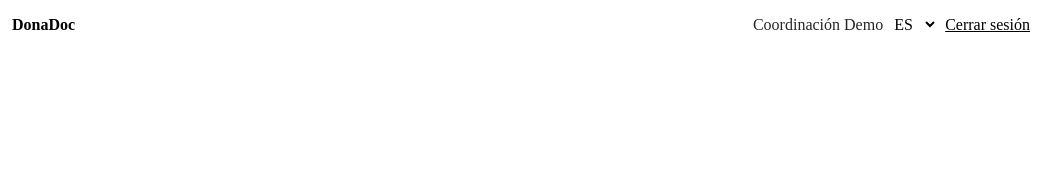
componentes compartidos › AppHeader muestra el usuario, cierra sesión y cambia de idioma
This screenshot has width=1048, height=172.
Expected: the text "Coordinación Demo" is shown, [753,16,883,34]
Click the button "Cerrar sesión" at coordinates (988, 24), box [939,14,1036,34]
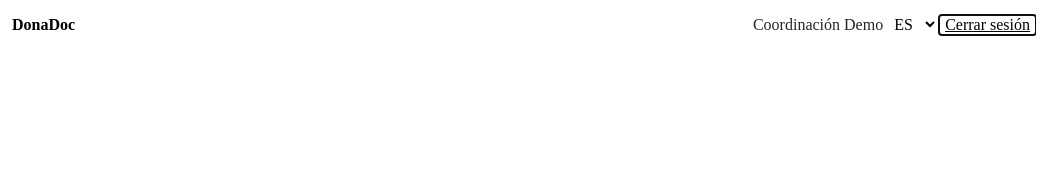
Select "EN" in the dropdown named "Idioma" at coordinates (911, 24), box [883,12,939,37]
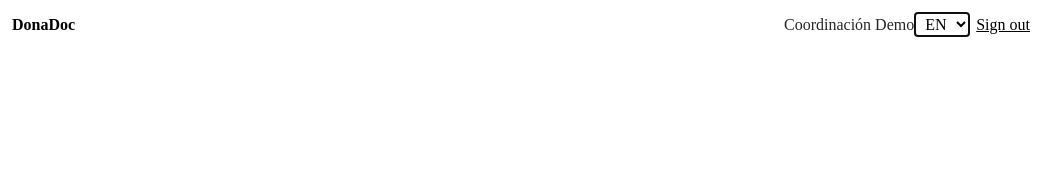
Expected: the button "Sign out" is shown, [970,14,1036,34]
